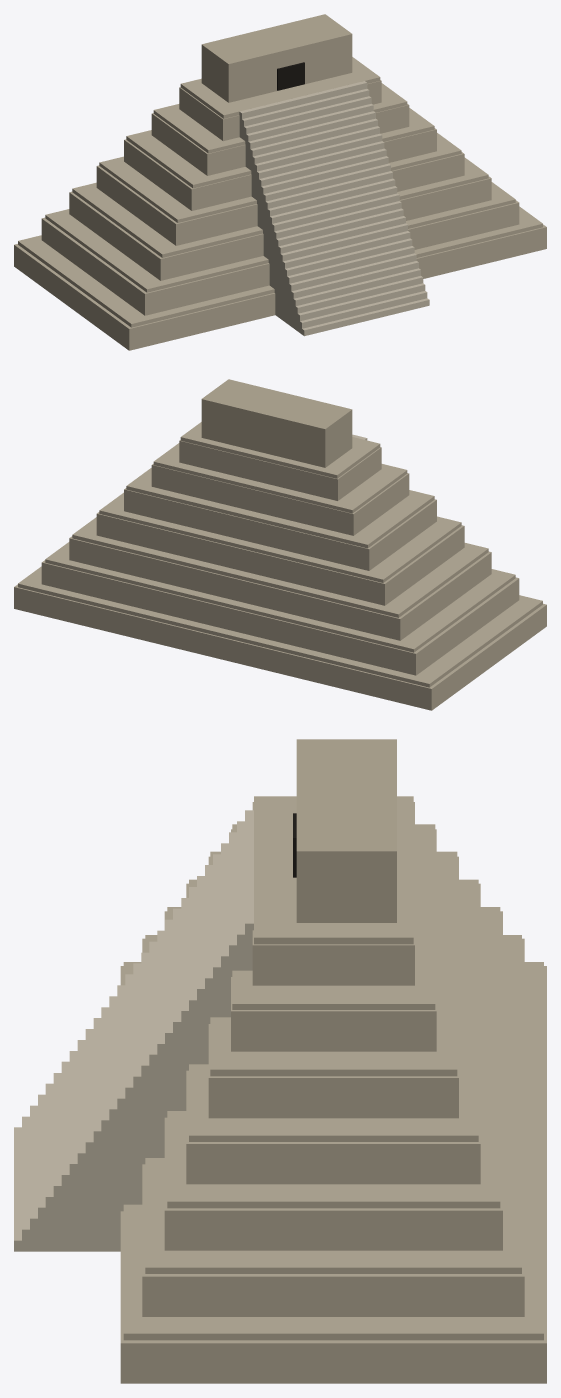
File: meso-coba-nohochmul-ruin.glb
3 renders of one model, top to bottom at view 1: azimuth 30°, elevation 25°; view 2: azimuth 150°, elevation 25°; view 3: azimuth 270°, elevation 25°, orthographic. The views are drawn at different scales.
Parts seen in each view (by area): view 1: meso-body, meso-stair, meso-shrine, meso-door; view 2: meso-body, meso-shrine; view 3: meso-body, meso-stair, meso-shrine.
Part boxes in pixels (bbox=[...]): meso-body: bbox=[14, 57, 546, 350]; meso-stair: bbox=[239, 81, 429, 336]; meso-shrine: bbox=[201, 14, 352, 102]; meso-door: bbox=[277, 62, 304, 90]; meso-body: bbox=[14, 422, 546, 710]; meso-shrine: bbox=[201, 379, 352, 467]; meso-body: bbox=[120, 796, 546, 1383]; meso-stair: bbox=[14, 810, 253, 1251]; meso-shrine: bbox=[296, 739, 396, 922].
Size of the model in its own units: 66.3 by 32.76 by 39.6.
